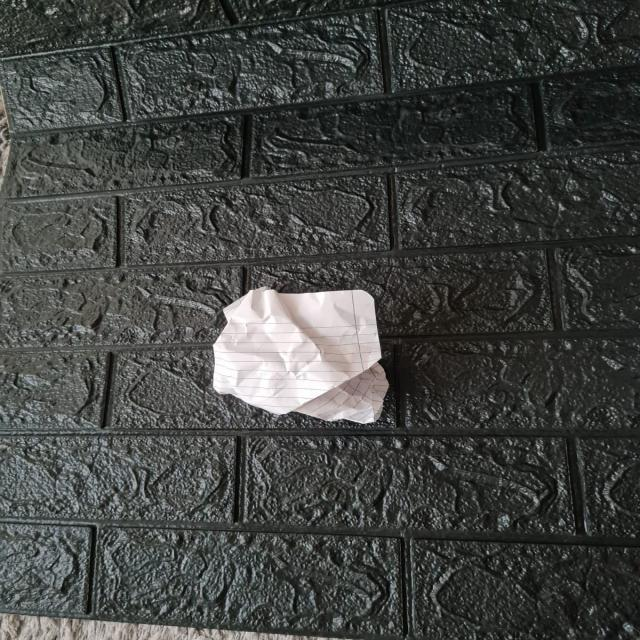cardboard paper: (212, 287, 386, 421)
